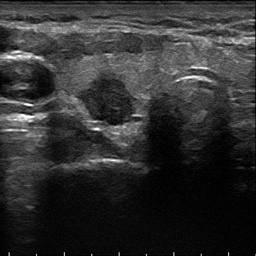mass: (78, 77, 134, 125)
